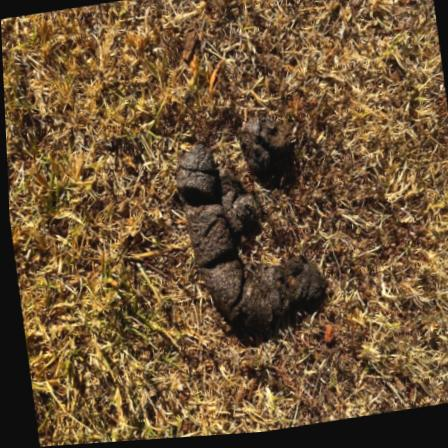dog-poop: (161, 127, 315, 343)
